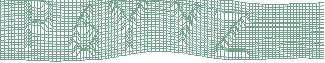6: (67, 2, 100, 58)
P: (21, 1, 54, 53)
Y: (107, 1, 150, 56)
Z: (210, 7, 249, 58)
y: (167, 1, 203, 47)
